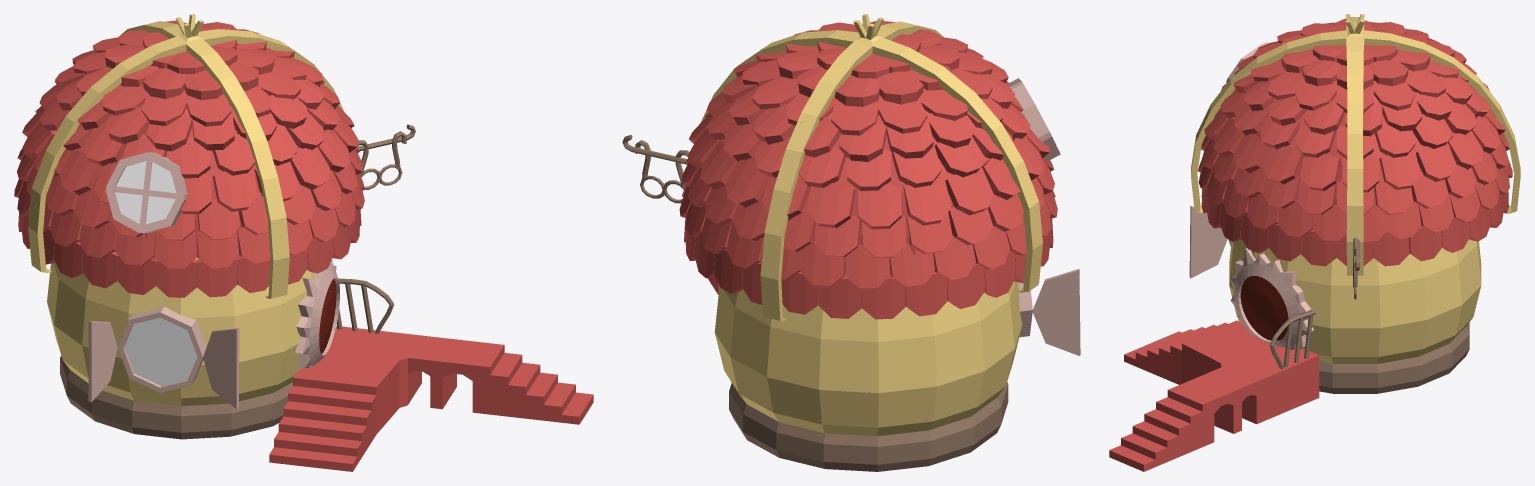
File: ezhik_house.glb
3 renders of one model, left to right at view 1: azimuth 30°, elevation 25°; view 2: azimuth 150°, elevation 25°; view 3: azimuth 270°, elevation 25°, orthographic. The views are drawn at different scales.
Parts seen in each view (by area): view 1: Cylinder, Cube.015, Cube.009, Cube.005, Cube.006, Cube.003, Cube.004, Cube.002, Cube.001, Cube, Cube.011, Cube.010 (+6 smaller); view 2: Cylinder, Cube.009, Cube.003, Cube.005, Cube.004, Cube.006, Cube.002, Cube.001, Cube, Cube.007, Cube.013, Cube.008 (+3 smaller); view 3: Cylinder, Cube.015, Cube.009, Cube.003, Cube.005, Cube.004, Cube.006, Cube.002, Cube.001, Cube, Cylinder.002, Cube.007 (+3 smaller).
Boxes of the visible parts, x1=… form: Cylinder: x1=47, y1=258, x2=314, y2=439; Cube.015: x1=269, y1=326, x2=593, y2=471; Cube.009: x1=28, y1=14, x2=344, y2=298; Cube.005: x1=14, y1=173, x2=364, y2=268; Cube.006: x1=18, y1=208, x2=361, y2=297; Cube.003: x1=22, y1=105, x2=358, y2=214; Cube.004: x1=17, y1=147, x2=363, y2=240; Cube.002: x1=39, y1=80, x2=340, y2=178; Cube.001: x1=55, y1=50, x2=324, y2=151; Cube: x1=73, y1=23, x2=306, y2=126; Cube.011: x1=118, y1=306, x2=206, y2=392; Cube.010: x1=106, y1=152, x2=187, y2=233; Cylinder: x1=714, y1=281, x2=1022, y2=471; Cube.009: x1=700, y1=14, x2=1042, y2=320; Cube.003: x1=688, y1=112, x2=1049, y2=229; Cube.005: x1=679, y1=185, x2=1057, y2=288; Cube.004: x1=682, y1=157, x2=1054, y2=257; Cube.006: x1=684, y1=218, x2=1053, y2=319; Cube.002: x1=706, y1=81, x2=1030, y2=190; Cube.001: x1=722, y1=48, x2=1015, y2=162; Cube: x1=742, y1=30, x2=992, y2=135; Cube.007: x1=777, y1=21, x2=959, y2=106; Cube.013: x1=1032, y1=269, x2=1080, y2=355; Cube.008: x1=817, y1=28, x2=920, y2=78; Cylinder: x1=1229, y1=239, x2=1481, y2=393; Cube.015: x1=1109, y1=320, x2=1319, y2=471; Cube.009: x1=1191, y1=14, x2=1520, y2=275; Cube.003: x1=1204, y1=108, x2=1505, y2=192; Cube.005: x1=1198, y1=160, x2=1512, y2=241; Cube.004: x1=1201, y1=133, x2=1509, y2=214; Cube.006: x1=1201, y1=188, x2=1508, y2=266; Cube.002: x1=1220, y1=69, x2=1490, y2=159; Cube.001: x1=1234, y1=38, x2=1476, y2=136; Cube: x1=1251, y1=22, x2=1460, y2=113; Cylinder.002: x1=1230, y1=248, x2=1313, y2=349; Cube.007: x1=1280, y1=18, x2=1430, y2=89.
Bounding box in the file's own units: 1.99 × 1.57 × 1.78.
